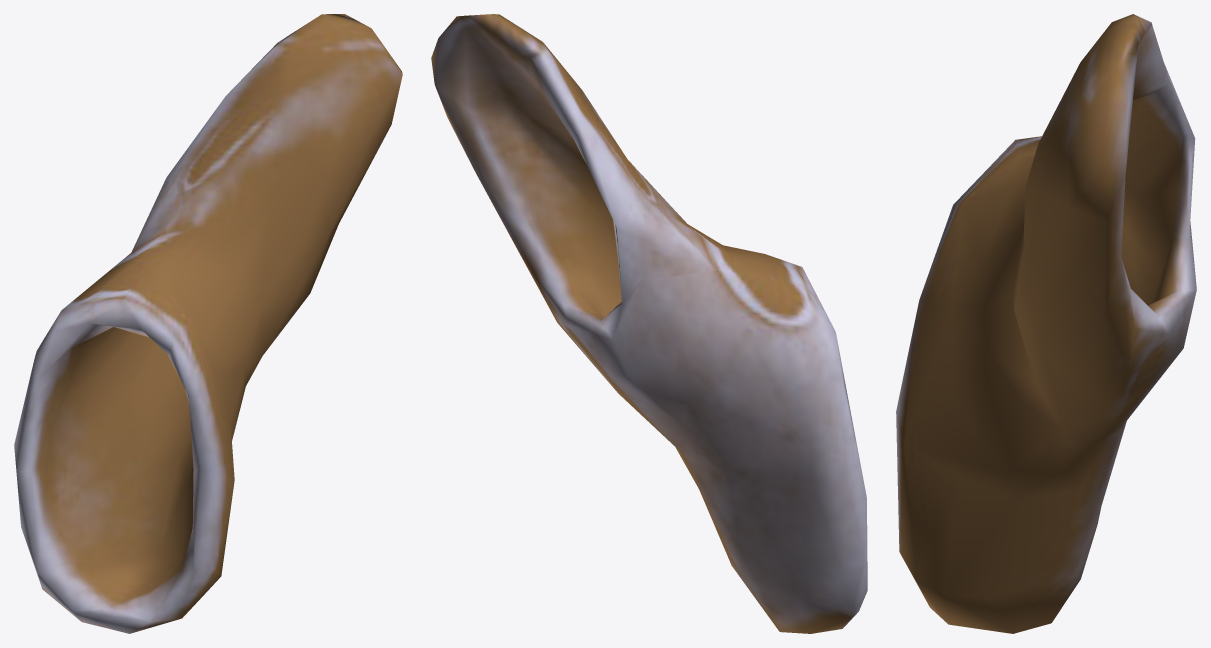
File: Nare.glb
3 renders of one model, left to right at view 1: azimuth 30°, elevation 25°; view 2: azimuth 150°, elevation 25°; view 3: azimuth 270°, elevation 25°, orthographic. The views are drawn at different scales.
Parts seen in each view (by area): view 1: Nare; view 2: Nare; view 3: Nare.
Part boxes in pixels (x1,y1,x2,y2): Nare: [14, 14, 402, 633]; Nare: [431, 14, 867, 633]; Nare: [896, 14, 1196, 633].
Bounding box in the file's own units: 0.1214 × 0.158 × 0.0548.
Materials: 1 (1 with a texture image).
